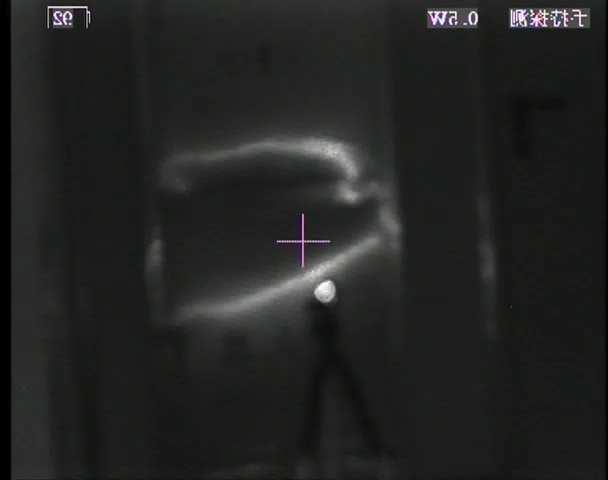my: (310, 278, 337, 303)
